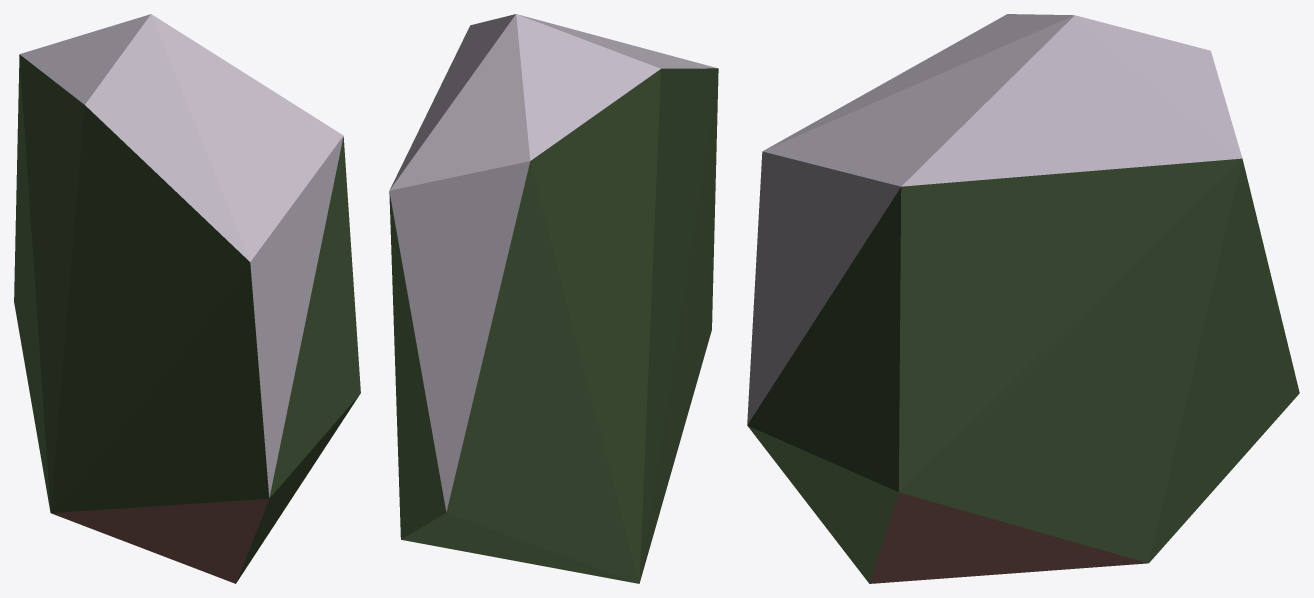
Rendered from Willow_Snow_1.lod4.glb.
3 views of the same model, side by side, from view 1: azimuth 30°, elevation 25°; view 2: azimuth 150°, elevation 25°; view 3: azimuth 270°, elevation 25° (orthographic). The views are drawn at different scales.
Parts seen in each view (by area): view 1: Willow_Snow_1; view 2: Willow_Snow_1; view 3: Willow_Snow_1.
Part boxes in pixels (x1,y1,x2,y2): Willow_Snow_1: (14,14,360,583); Willow_Snow_1: (389,14,718,583); Willow_Snow_1: (747,14,1299,583).
Bounding box in the file's own units: 1.49 × 3.02 × 2.65.
